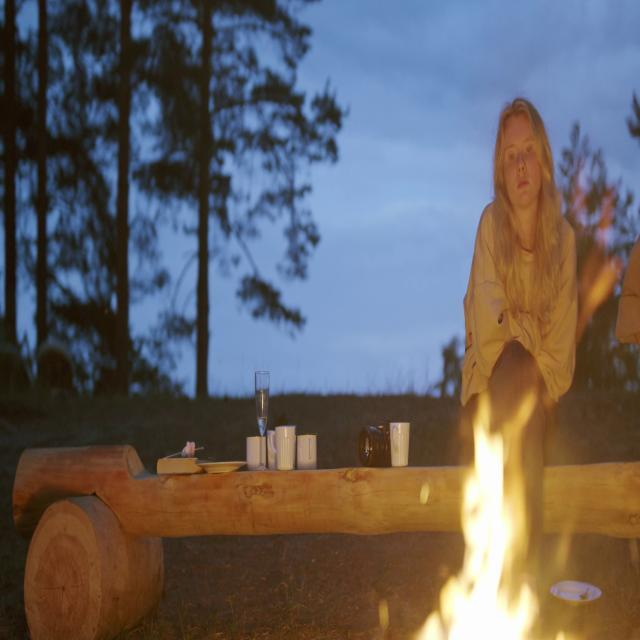Fire: (422, 408, 562, 640)
